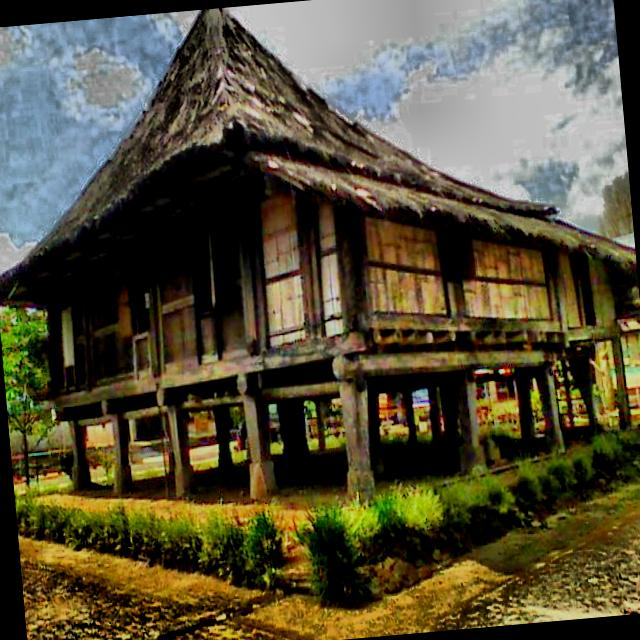column: (339, 379, 374, 500), (243, 397, 276, 498), (456, 381, 486, 474), (167, 403, 195, 497), (534, 363, 563, 451), (612, 338, 632, 428), (69, 425, 91, 491), (112, 420, 132, 492), (213, 404, 233, 466), (427, 388, 442, 441), (403, 389, 417, 441)
roof: (0, 7, 637, 309)
wall: (48, 170, 617, 409)
window: (436, 232, 475, 279)
